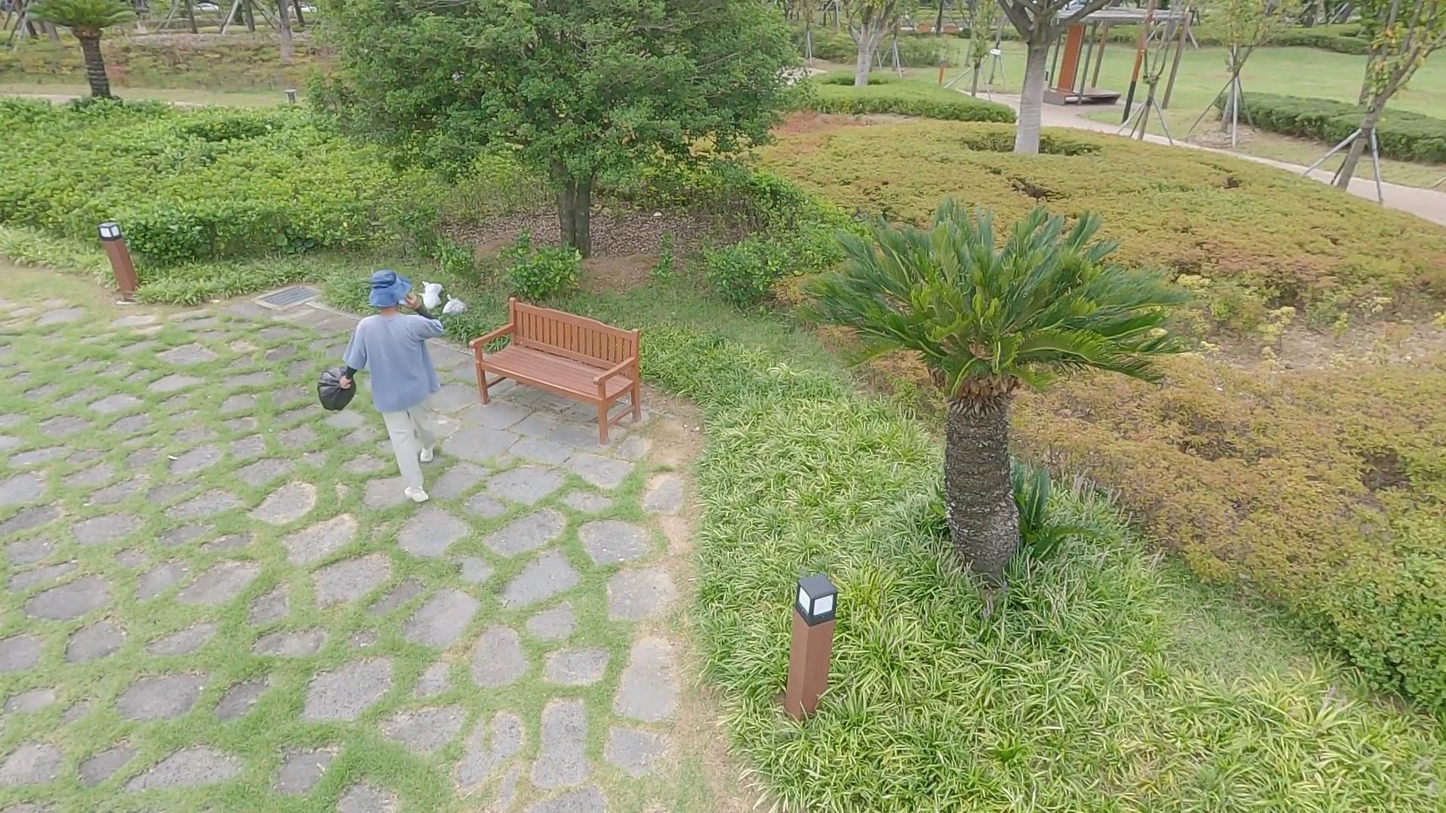person: (335, 264, 466, 512)
trash: (310, 364, 358, 416), (415, 289, 445, 313), (437, 292, 466, 316), (420, 276, 445, 301)
